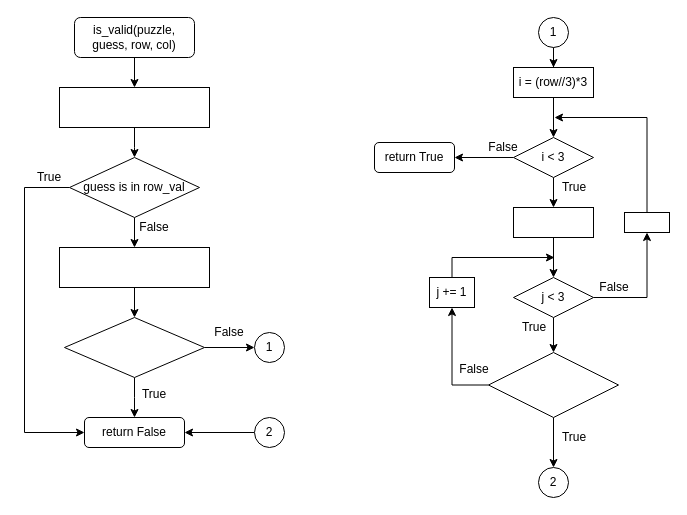
Image size: 687x515. Some labels were removed from this diagram. The centre of each missing label's shape, as x and y in pixels:
col_val = puzzle[:][col]: [134,267]
guess == puzzle[i][j]: [553,385]
guess is in col_val: [134,347]
i += 1: [647,222]
j = (col//3)*3: [553,222]
row_val = puzzle[row][:]: [134,107]
